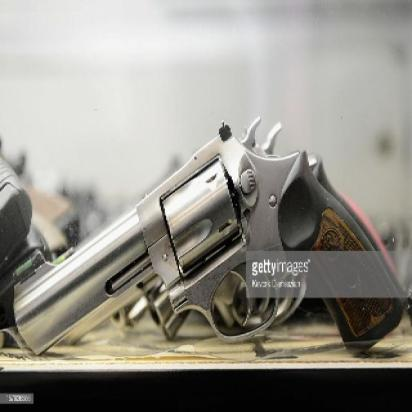Gun: (5, 115, 407, 356)
